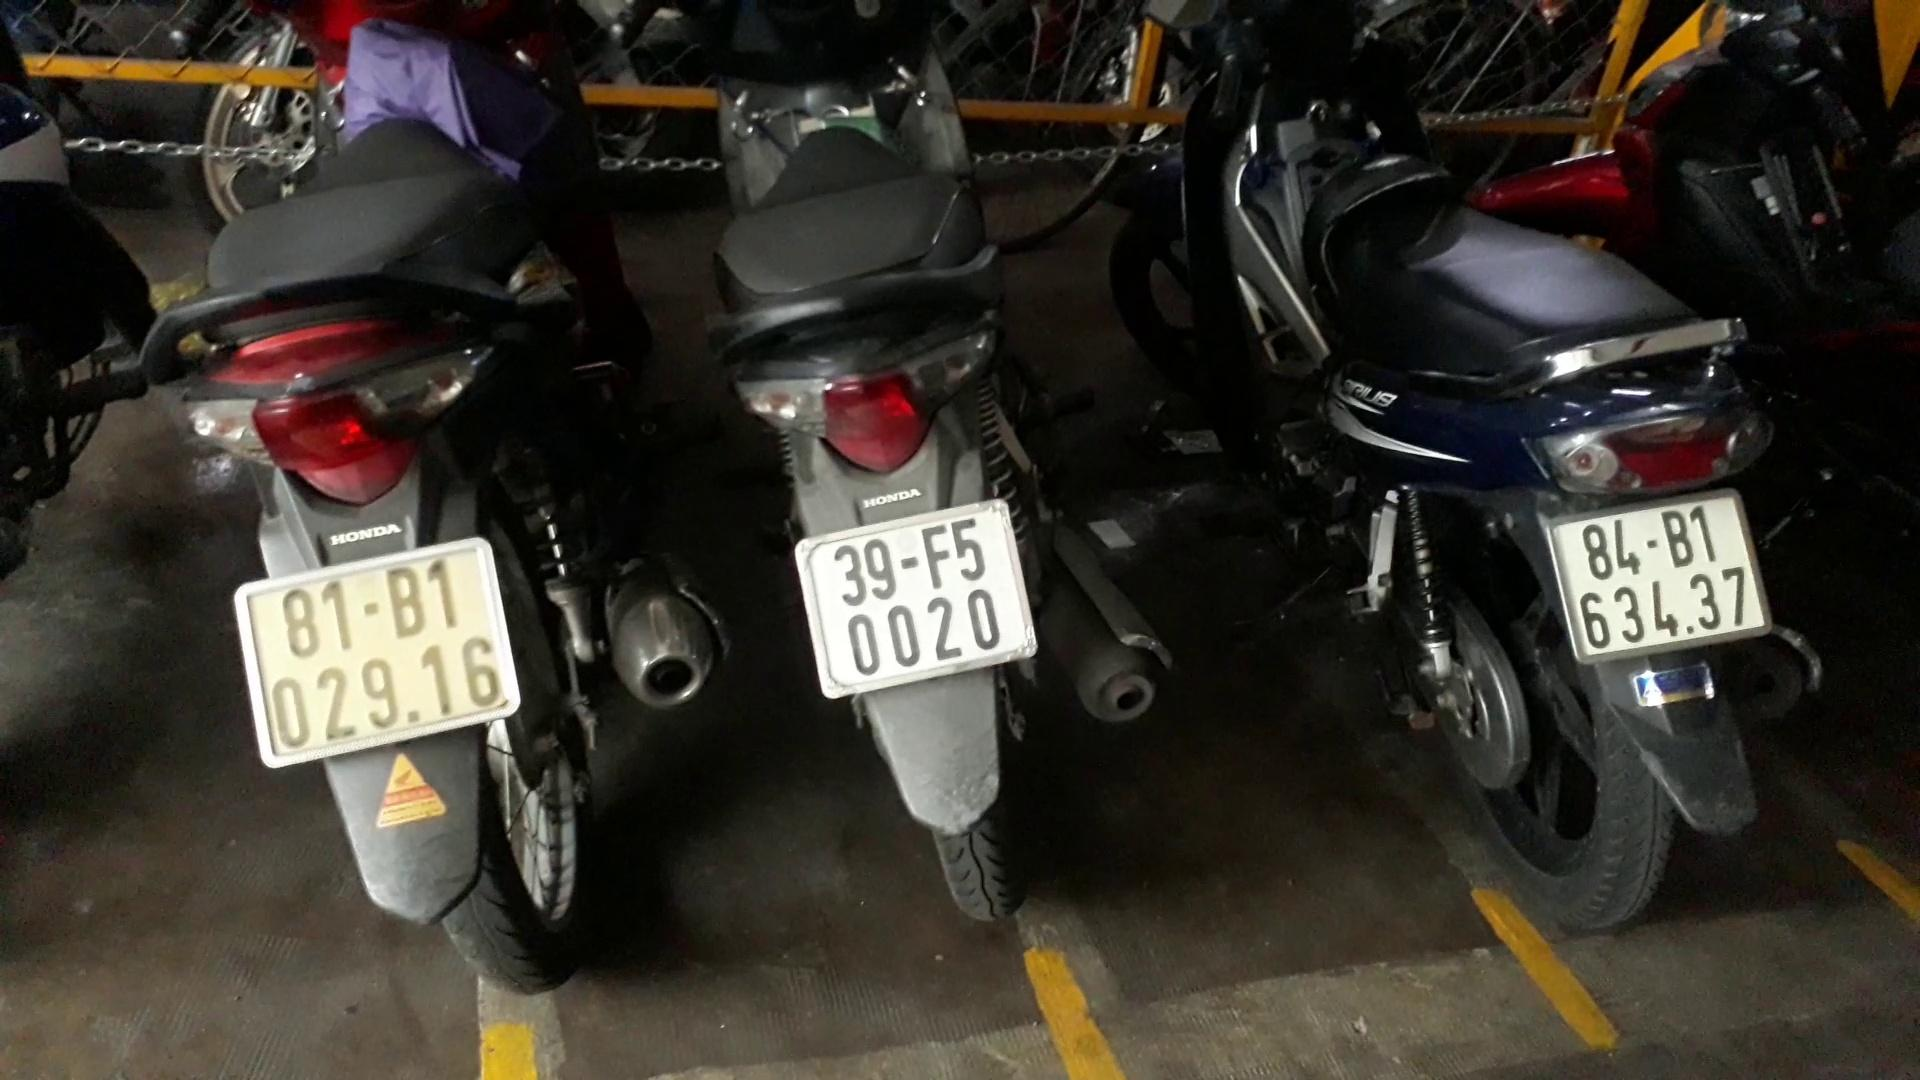numplate: (233, 553, 537, 747), (787, 513, 1073, 680), (1540, 503, 1783, 643)
